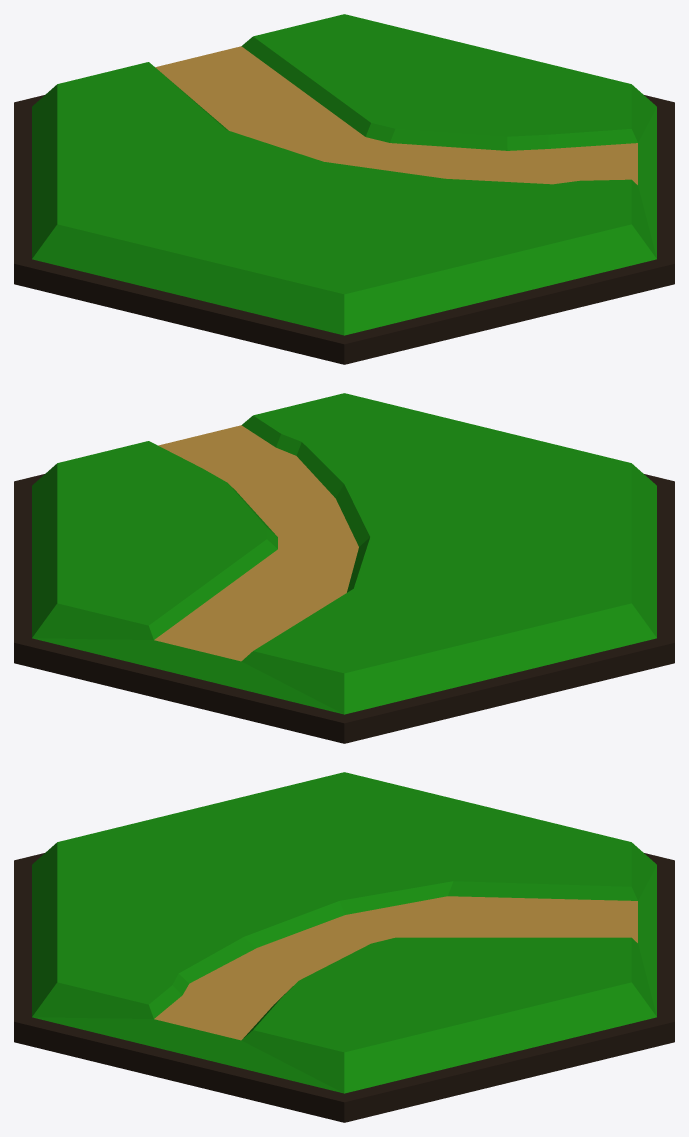
File: roadAngleTile.fbx
3 renders of one model, top to bottom at view 1: azimuth 30°, elevation 25°; view 2: azimuth 150°, elevation 25°; view 3: azimuth 270°, elevation 25°, orthographic.
Parts seen in each view (by area): view 1: tail014; view 2: tail014; view 3: tail014.
Part boxes in pixels (x1,y1,x2,y2): tail014: (14, 14, 674, 364); tail014: (14, 393, 674, 743); tail014: (14, 772, 674, 1122).
Size of the model in its own units: 47.1 by 3.36 by 40.79.
